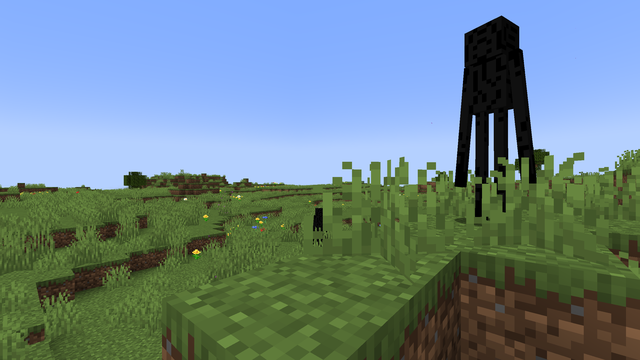endermens: (463, 4, 517, 226), (313, 206, 326, 242)
